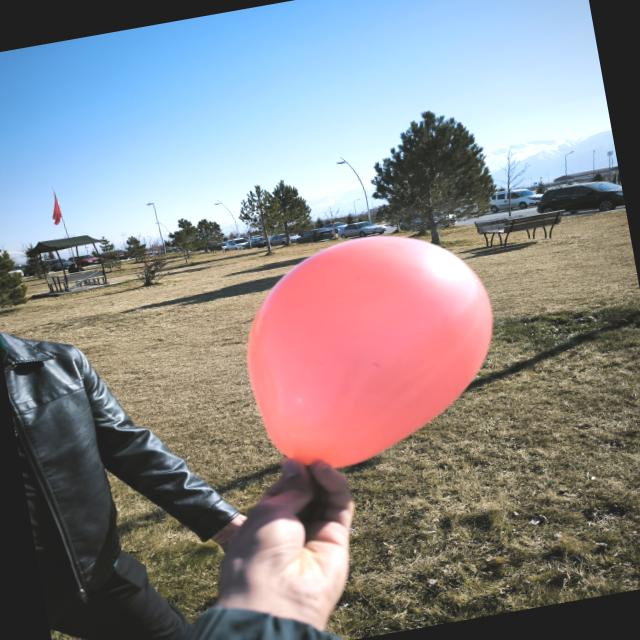balloon: (247, 235, 492, 466)
